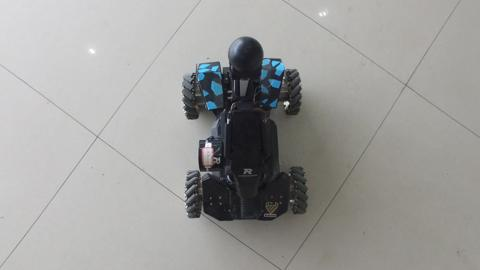chariot: (180, 35, 317, 240)
